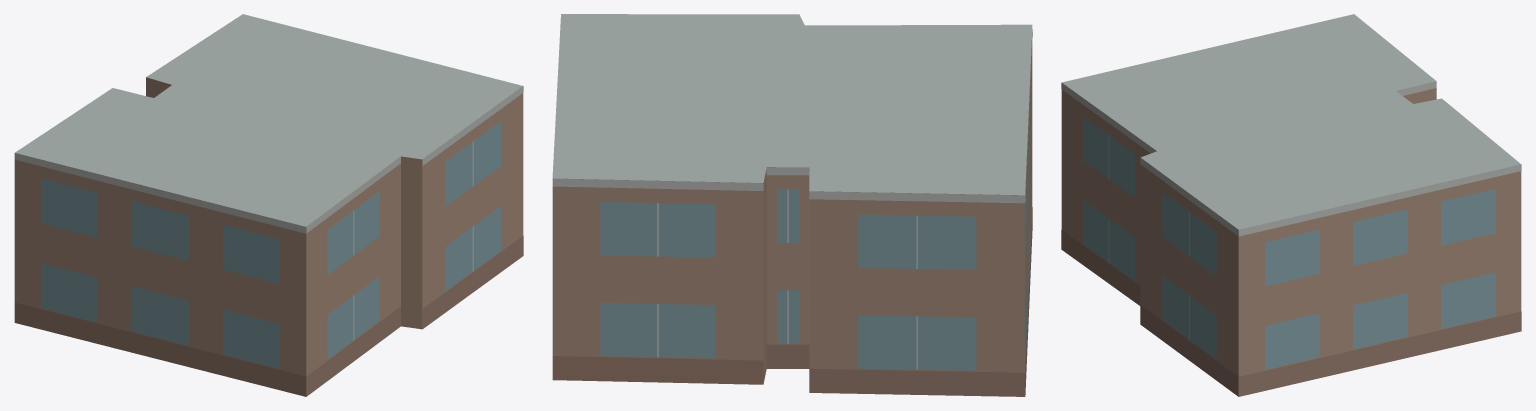
File: survey-upis-32674320.glb
3 views of the same model, side by side, from view 1: azimuth 30°, elevation 25°; view 2: azimuth 150°, elevation 25°; view 3: azimuth 270°, elevation 25° (orthographic). The views are drawn at different scales.
Parts seen in each view (by area): view 1: survey-upis-32674320.tmp; view 2: survey-upis-32674320.tmp; view 3: survey-upis-32674320.tmp.
Part boxes in pixels (bbox=[...]): survey-upis-32674320.tmp: bbox=[14, 14, 523, 396]; survey-upis-32674320.tmp: bbox=[552, 14, 1032, 396]; survey-upis-32674320.tmp: bbox=[1061, 14, 1521, 396].
Bounding box in the file's own units: 16.91 × 6.1 × 15.23.
